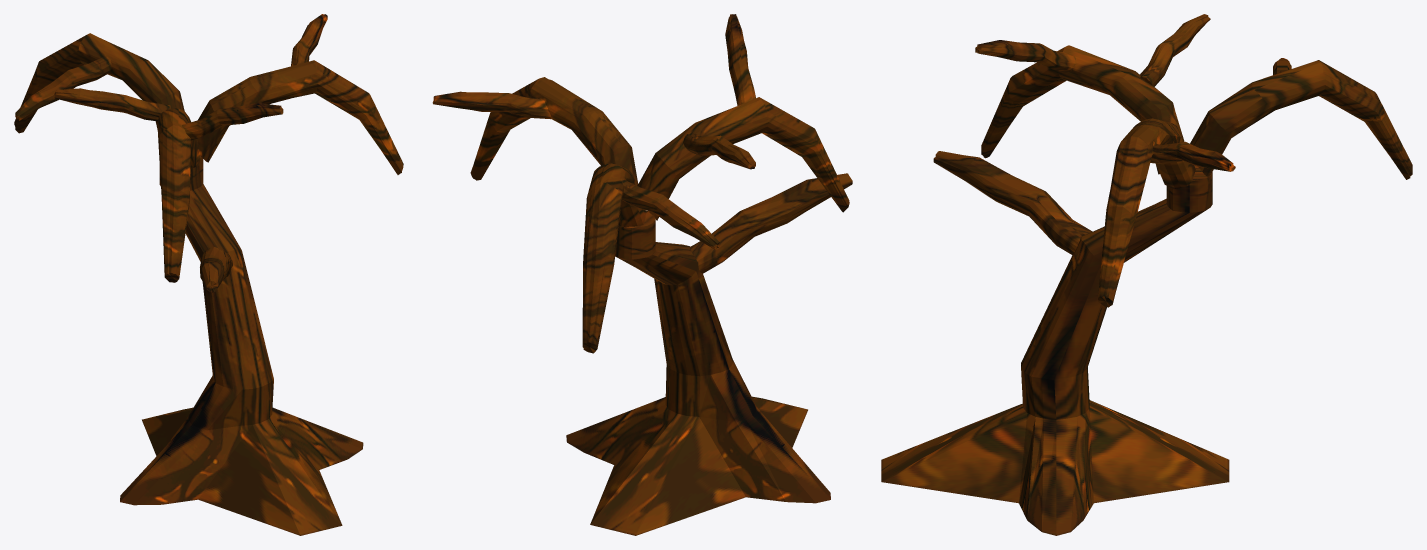
The model's file is Deadtree.glb.
3 renders of one model, left to right at view 1: azimuth 30°, elevation 25°; view 2: azimuth 150°, elevation 25°; view 3: azimuth 270°, elevation 25°, orthographic. The views are drawn at different scales.
Parts seen in each view (by area): view 1: Deadtree; view 2: Deadtree; view 3: Deadtree.
Part boxes in pixels (<box>): Deadtree: <box>14,14,403,535</box>; Deadtree: <box>432,14,852,535</box>; Deadtree: <box>881,14,1412,535</box>.
Bounding box in the file's own units: 89.36 × 109 × 123.
1 material, 1 textured.
